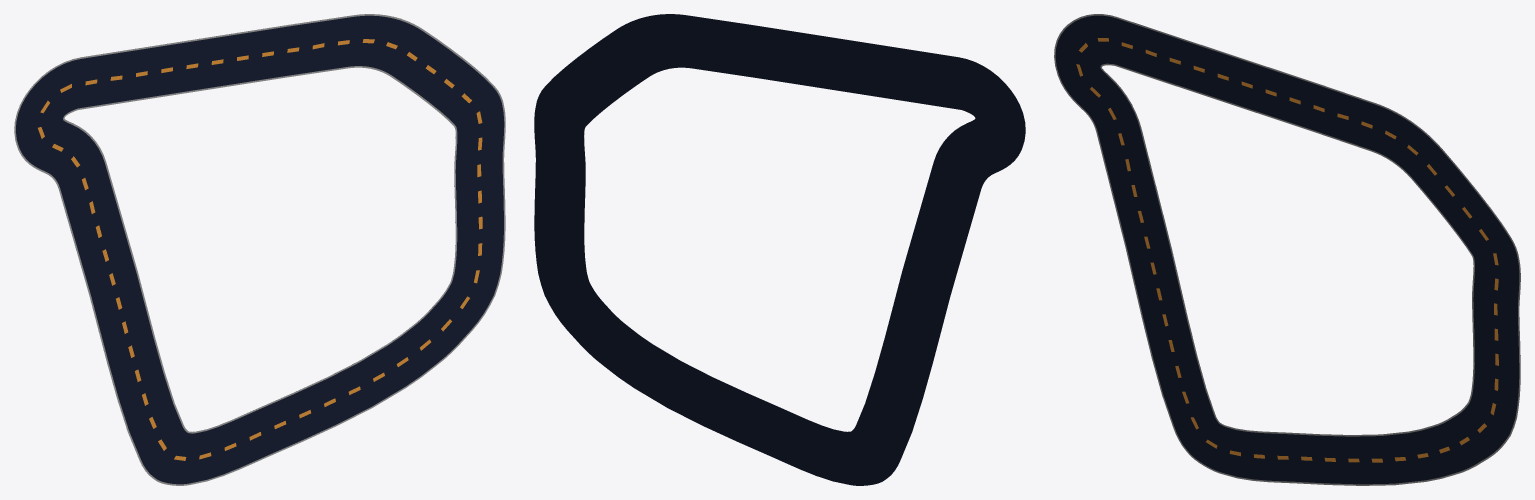
The model's file is track.obj.
3 renders of one model, left to right at view 1: azimuth 30°, elevation 25°; view 2: azimuth 150°, elevation 25°; view 3: azimuth 330°, elevation 25°, orthographic. The views are drawn at different scales.
Size of the model in its own units: 12.61 by 11.16 by 0.002.
